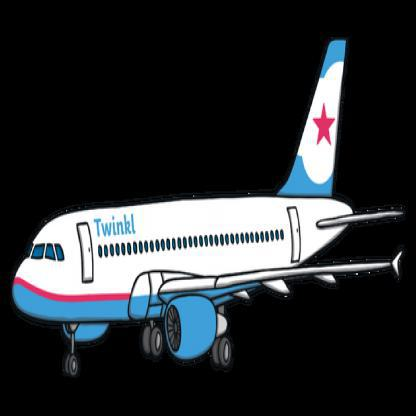CIV_Plane: (10, 32, 407, 382)
